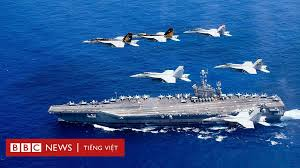maybay_muctieu: (204, 107, 272, 131), (218, 56, 270, 76), (79, 33, 142, 49), (126, 28, 179, 44), (132, 68, 191, 82), (180, 24, 229, 40)
tau_muctieu: (47, 82, 283, 135)
